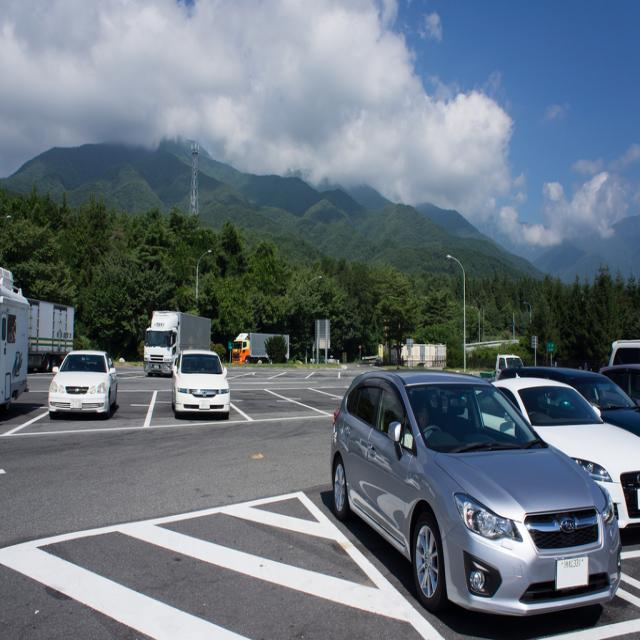car: (47, 345, 117, 416), (172, 350, 230, 415)
